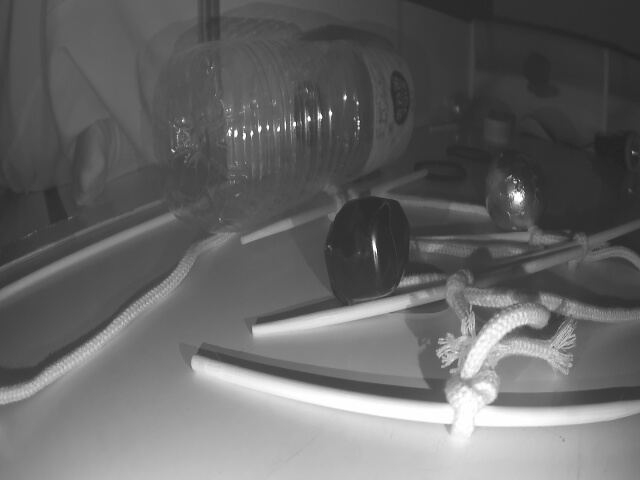Dead: (325, 199, 408, 300)
Live: (488, 152, 543, 230)
